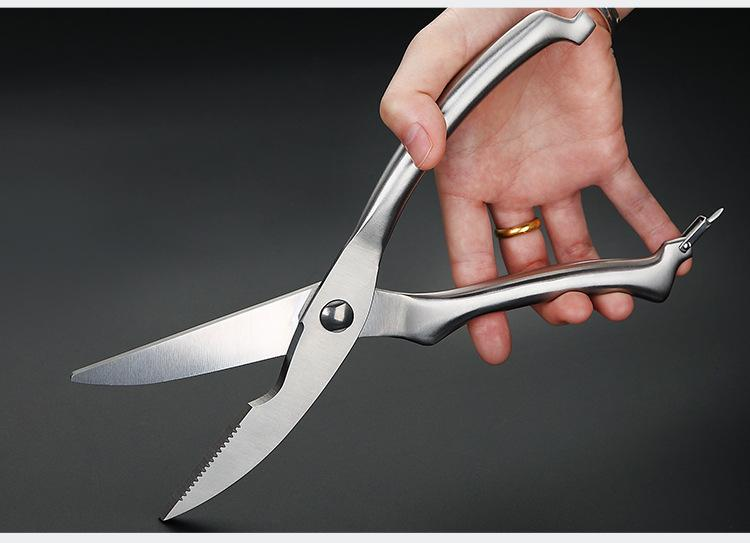scissor: (68, 29, 730, 488)
